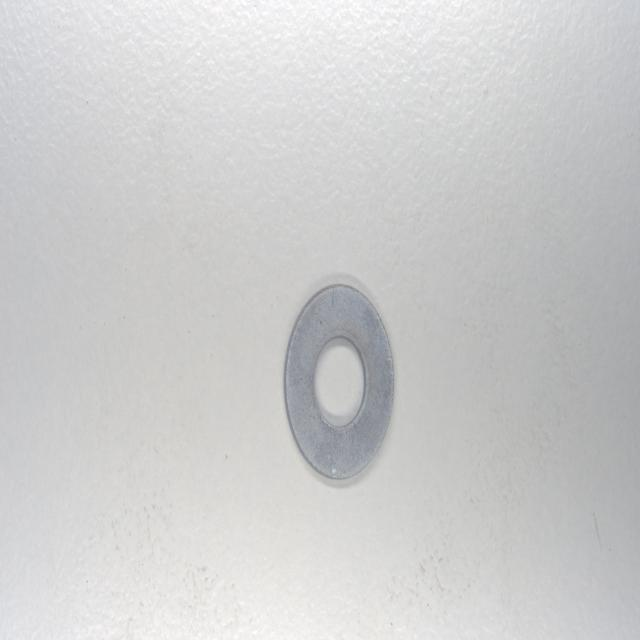washer: (282, 278, 396, 486)
